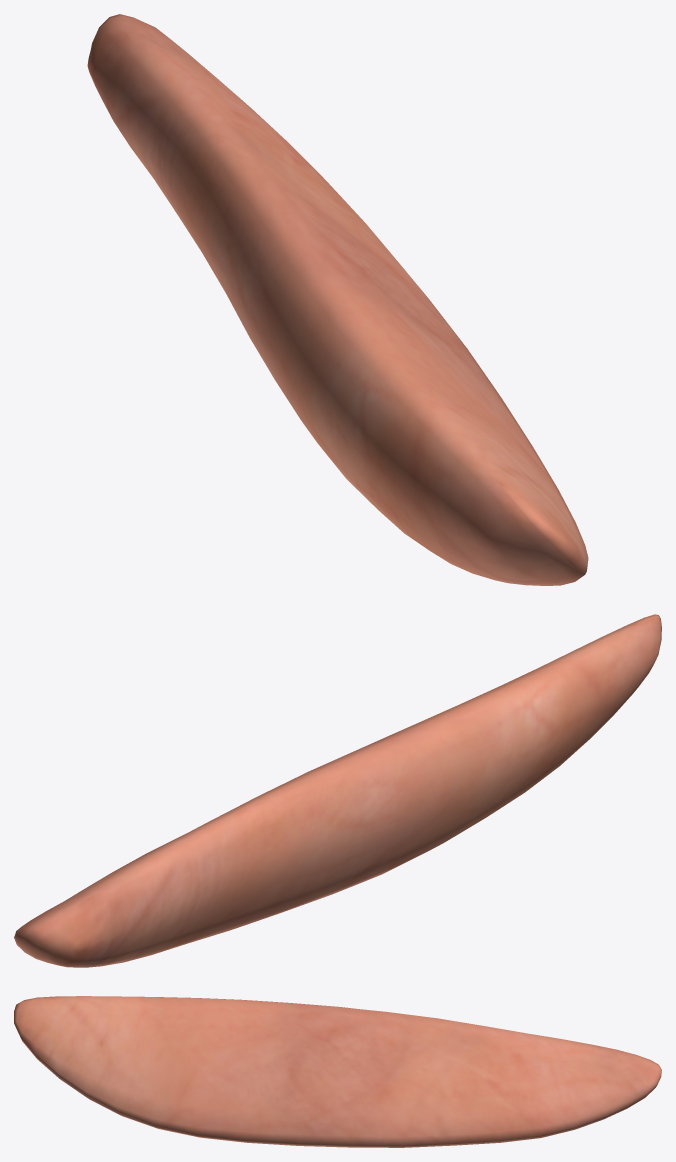
The model's file is l_medial_globus_pallidus_reversed01.fbx.
3 renders of one model, top to bottom at view 1: azimuth 30°, elevation 25°; view 2: azimuth 150°, elevation 25°; view 3: azimuth 270°, elevation 25°, orthographic. The views are drawn at different scales.
Parts seen in each view (by area): view 1: L_Medial_Globus_Pallidus1; view 2: L_Medial_Globus_Pallidus1; view 3: L_Medial_Globus_Pallidus1.
Boxes of the visible parts, box(x1,y1,x2,y2) form: L_Medial_Globus_Pallidus1: box(87, 14, 588, 585); L_Medial_Globus_Pallidus1: box(14, 614, 661, 967); L_Medial_Globus_Pallidus1: box(14, 996, 661, 1147).
Size of the model in its own units: 1.16 by 0.7366 by 4.06.
1 material, 1 textured.
